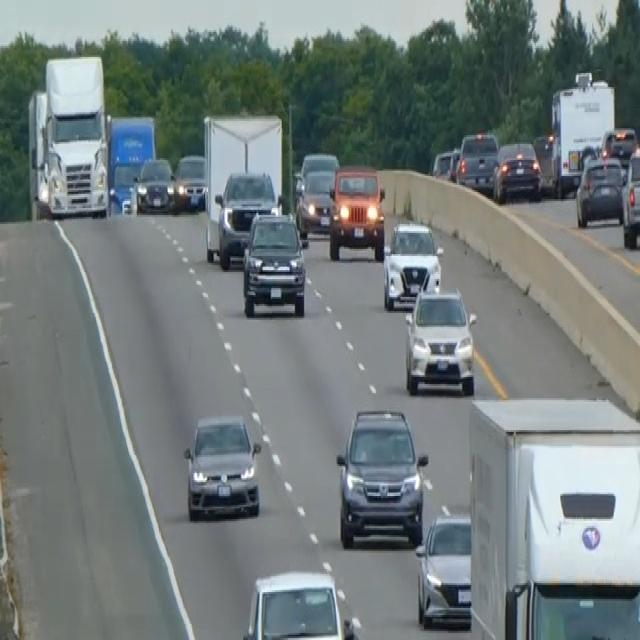car: (335, 406, 428, 548), (182, 411, 262, 521), (403, 284, 477, 396), (241, 567, 355, 638), (414, 507, 473, 629), (213, 167, 279, 269), (327, 162, 385, 261), (382, 219, 443, 309), (294, 150, 339, 238), (575, 153, 624, 227), (492, 138, 542, 202), (455, 128, 498, 192), (133, 155, 176, 213), (173, 151, 206, 212), (620, 149, 639, 249), (107, 160, 139, 213), (599, 125, 637, 167), (431, 146, 459, 181)
jeep: (240, 208, 308, 318)
lorry: (466, 391, 639, 638), (26, 52, 110, 220)
